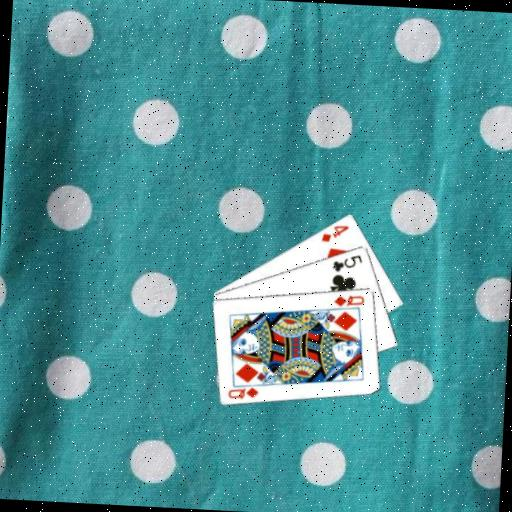4D: (318, 221, 351, 245)
5C: (330, 250, 365, 275)
QD: (225, 383, 261, 401), (331, 291, 366, 309)
